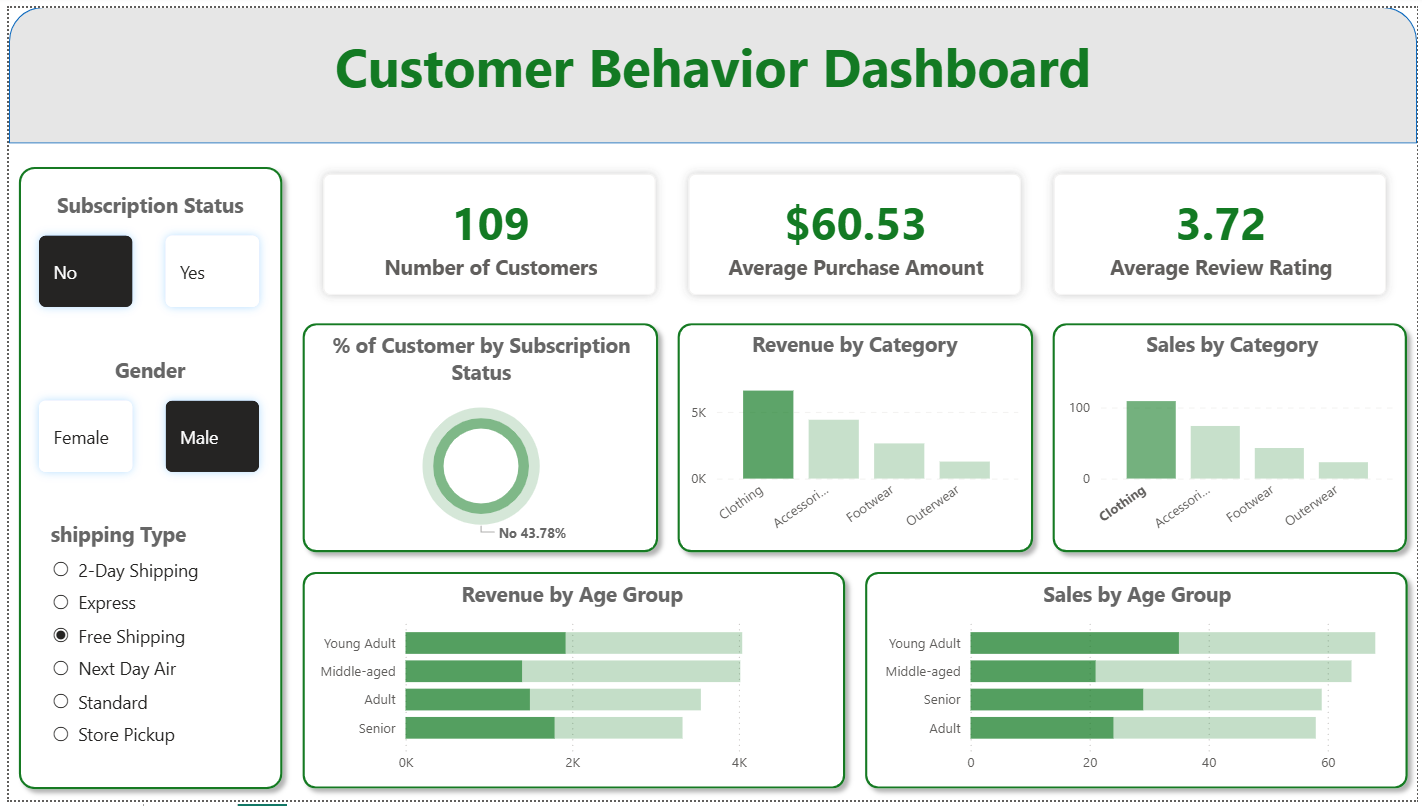

The dashboard page shown, as its layout file describes it:
{"tool":"powerbi","page":{"name":"Page 1","canvas":[1280,720],"ordinal":0},"visuals":[{"type":"cardVisual","fields":{"Data":["public customer.Number of Customers","public customer.Average Purchase Amount","public customer.Average Review Rating"]},"box":[257.5,123.8,1022.5,166.2],"z":0},{"type":"group","id":"g1","title":"Group 1","box":[257.5,278.8,341.2,226.2],"z":0,"group":"g4"},{"type":"shape","box":[939.9,278.8,340.1,226.2],"z":0,"group":"g3"},{"type":"shape","box":[0,0,1280,124.3],"z":1000},{"type":"group","id":"g2","title":"Group 2","box":[598.7,278.8,341.2,226.2],"z":1000,"group":"g4"},{"type":"clusteredColumnChart","title":"Sales by Category","fields":{"Y":["CountNonNull(public customer.customer_id)"],"Category":["public customer.category"]},"box":[957.6,294,307.9,194.7],"z":1000,"group":"g3"},{"type":"textbox","box":[118.8,16.2,1041.2,92.5],"z":2000},{"type":"group","id":"g3","title":"Group 3","box":[939.9,278.8,340.1,226.2],"z":2000,"group":"g4"},{"type":"shape","box":[0,136.2,257.5,583.8],"z":3000},{"type":"shape","box":[257.5,278.8,341.2,226.2],"z":3000,"group":"g1"},{"type":"shape","box":[257.5,505,511.2,215],"z":3000},{"type":"group","id":"g4","title":"Group 4","box":[257.5,278.8,1022.5,226.2],"z":4000},{"type":"donutChart","title":"% of Customer by Subscription Status","fields":{"Category":["public customer.subscription_status"],"Y":["CountNonNull(public customer.customer_id)"]},"box":[272.8,294.6,311,196.9],"z":4000,"group":"g1"},{"type":"advancedSlicerVisual","title":"Subscription Status","fields":{"Values":["public customer.subscription_status"]},"box":[11.2,167.5,233.8,122.5],"z":5000},{"type":"shape","box":[598.7,278.8,341.2,226.2],"z":5000,"group":"g2"},{"type":"advancedSlicerVisual","title":"Gender","fields":{"Values":["public customer.gender"]},"box":[11.2,317.5,233.8,122.5],"z":6000},{"type":"listSlicer","fields":{"Values":["public customer.shipping_type"]},"box":[32.5,466.2,192.5,218.8],"z":6001},{"type":"clusteredColumnChart","title":"Revenue by Category","fields":{"Y":["Sum(public customer.purchase_amount)"],"Category":["public customer.category"]},"box":[614.3,294,307.9,194.7],"z":6002,"group":"g2"},{"type":"clusteredBarChart","title":"Revenue by Age Group","fields":{"Y":["Sum(public customer.purchase_amount)"],"Category":["public customer.age_group"]},"box":[272.5,520,478.8,185],"z":6002},{"type":"shape","box":[768.8,505,511.2,215],"z":6003},{"type":"clusteredBarChart","title":"Sales by Age Group","fields":{"Y":["CountNonNull(public customer.customer_id)"],"Category":["public customer.age_group"]},"box":[786.2,520,478.8,185],"z":6004}]}

Visuals, with their boxes in screenshot pixels (x1, y1, x2, y2), scaled from the page's 1280x720 canvas onto the 1422x806 screenshot:
cardVisual - public customer.Number of Customers x public customer.Average Purchase Amount: <box>286,139,1421,325</box>
"Group 1" group: <box>286,312,665,565</box>
shape: <box>1044,312,1421,565</box>
shape: <box>0,0,1421,139</box>
"Group 2" group: <box>665,312,1044,565</box>
"Sales by Category" clusteredColumnChart: <box>1064,329,1406,547</box>
textbox: <box>132,18,1289,122</box>
"Group 3" group: <box>1044,312,1421,565</box>
shape: <box>0,152,286,805</box>
shape: <box>286,312,665,565</box>
shape: <box>286,565,854,805</box>
"Group 4" group: <box>286,312,1421,565</box>
"% of Customer by Subscription Status" donutChart: <box>303,330,649,550</box>
"Subscription Status" advancedSlicerVisual: <box>12,188,272,325</box>
shape: <box>665,312,1044,565</box>
"Gender" advancedSlicerVisual: <box>12,355,272,493</box>
listSlicer - public customer.shipping_type: <box>36,522,250,767</box>
"Revenue by Category" clusteredColumnChart: <box>682,329,1025,547</box>
"Revenue by Age Group" clusteredBarChart: <box>303,582,835,789</box>
shape: <box>854,565,1421,805</box>
"Sales by Age Group" clusteredBarChart: <box>873,582,1405,789</box>
